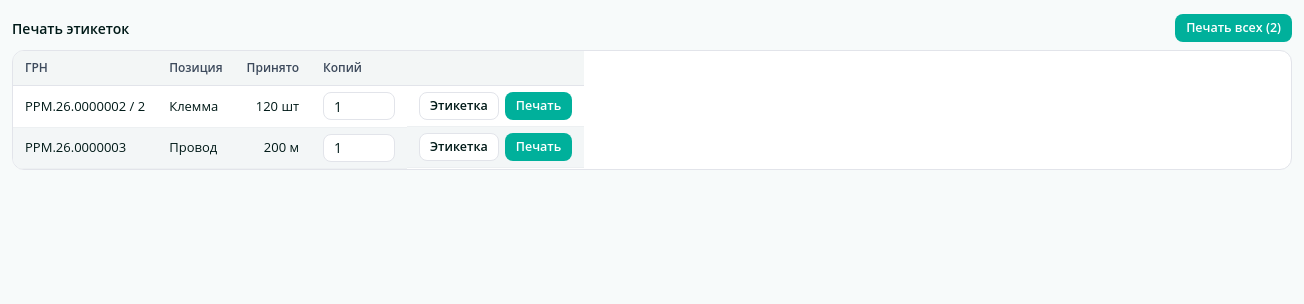
Test: after receiving, each new lot is found by its ГРН and queued with its own copies
Replace the text in the field named "Копий: PPM.26.0000002 / 2" with "3" at (359,106), box [323,92,395,120]
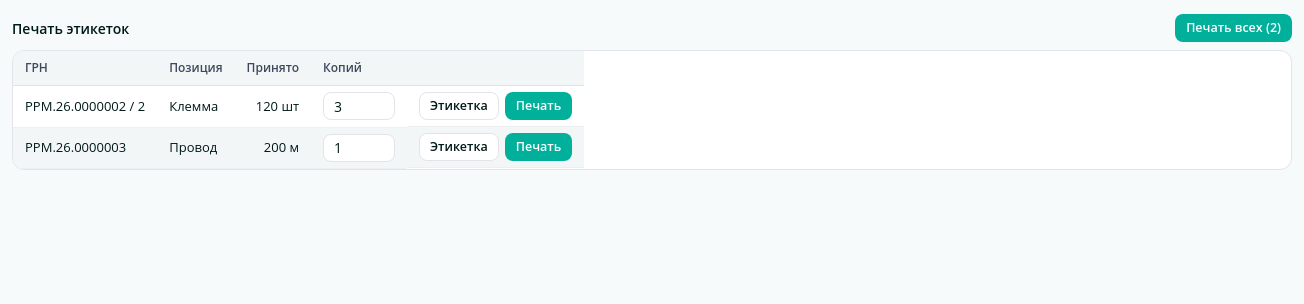
Click the button "Печать всех (2)".
click(1234, 28)  # box [1175,14,1292,42]
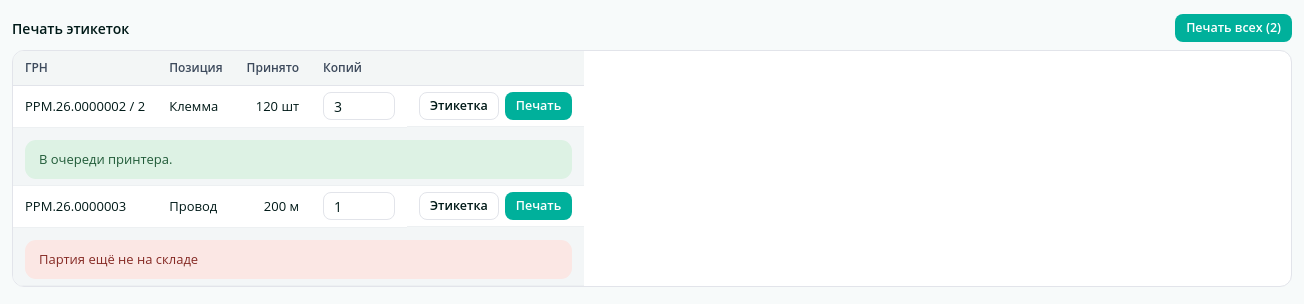
Now the text "Партия ещё не на складе" is shown, box [25,240,572,279]
